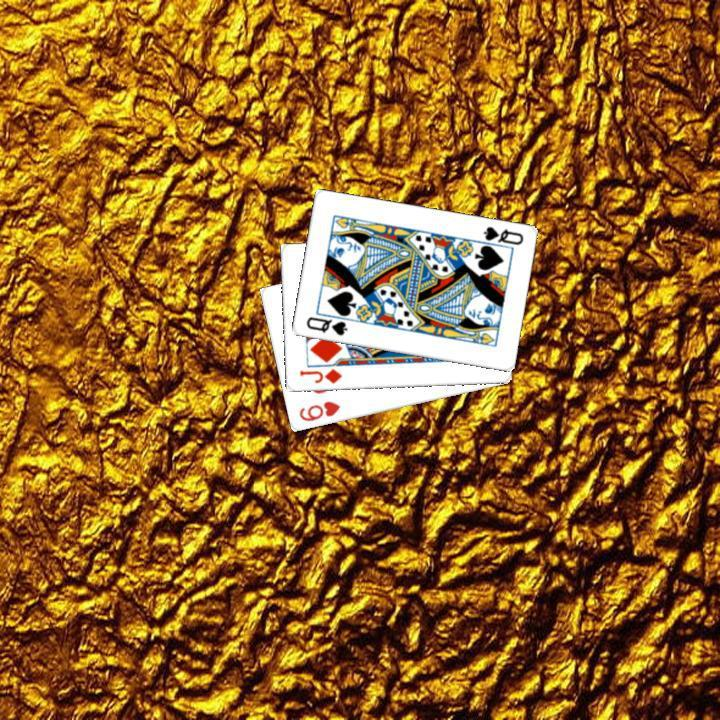6: (294, 397, 342, 424)
J: (295, 365, 344, 386)
Q: (301, 313, 349, 338), (479, 222, 525, 247)
